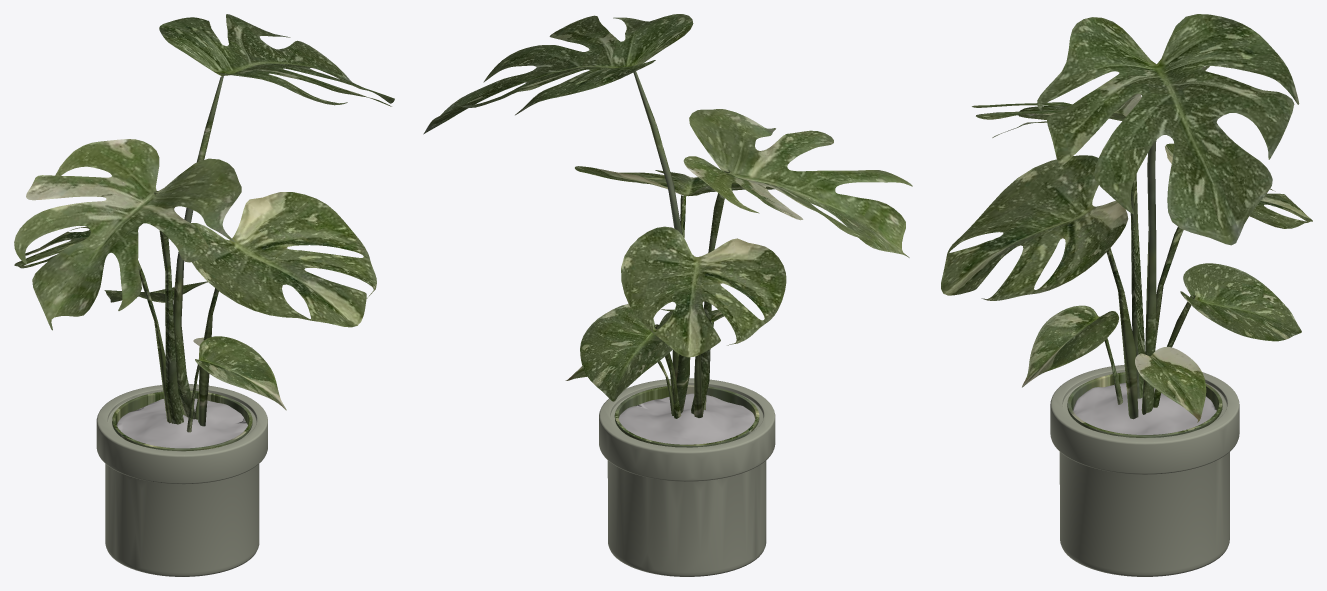
The model's file is plant-monstera-pot.glb.
3 renders of one model, left to right at view 1: azimuth 30°, elevation 25°; view 2: azimuth 150°, elevation 25°; view 3: azimuth 270°, elevation 25°, orthographic. The views are drawn at different scales.
Visible parts, largest first — view 1: Vase, Leaf2.002, Leaf1.002, Leaf6.002, Soil, Leaf4, stem6, Stem2, Plastic pot, Leaf1.003, stem1, stem1.001 (+1 smaller); view 2: Vase, Leaf1.003, Leaf2.002, Leaf6.002, Leaf5, Soil, Plastic pot, stem6, Leaf1.002, Stem2; view 3: Leaf6.002, Vase, Leaf1.002, Leaf5, Soil, Leaf4, Leaf3, stem6, Stem2, Plastic pot, stem1, Leaf2.002 (+2 smaller).
Part boxes in pixels (x1,y1,x2,y2): Vase: (96,384,267,576); Leaf2.002: (14,139,241,330); Leaf1.002: (191,192,376,327); Leaf6.002: (159,14,394,106); Soil: (116,398,247,448); Leaf4: (195,336,286,410); stem6: (173,76,223,419); Stem2: (154,191,183,424); Plastic pot: (112,390,252,451); Leaf1.003: (14,223,142,268); stem1: (198,288,218,426); stem1.001: (138,260,171,423); Vase: (599,378,775,576); Leaf1.003: (621,226,786,357); Leaf2.002: (683,109,912,257); Leaf6.002: (423,14,693,134); Leaf5: (580,303,672,401); Soil: (618,393,755,444); Plastic pot: (614,385,759,447); stem6: (633,71,690,415); Leaf1.002: (575,166,774,196); Stem2: (691,170,730,414); Leaf6.002: (1037,14,1299,245); Vase: (1050,364,1239,576); Leaf1.002: (941,155,1128,300); Leaf5: (1180,263,1301,341); Soil: (1073,383,1216,434); Leaf4: (1022,305,1118,387); Leaf3: (1135,346,1206,422); stem6: (1141,141,1156,412); Stem2: (1130,174,1145,398); Plastic pot: (1067,372,1222,437); stem1: (1106,248,1138,419); Leaf2.002: (972,65,1209,137).
Size of the model in its own units: 0.7747 by 0.919 by 0.5785.
Materials: 2 (2 with a texture image).
